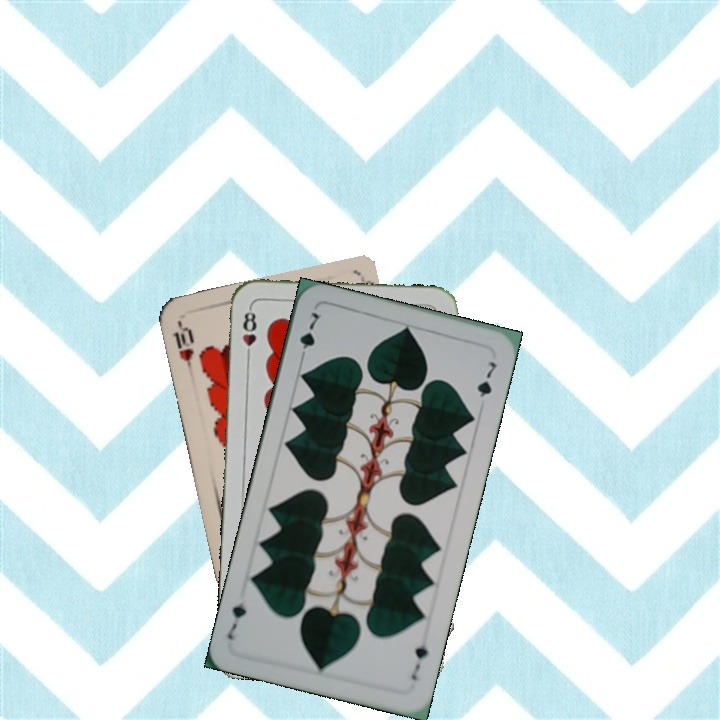G7: (295, 308, 325, 365), (407, 640, 431, 683)
H10: (170, 318, 196, 376)
H8: (238, 303, 259, 362)
